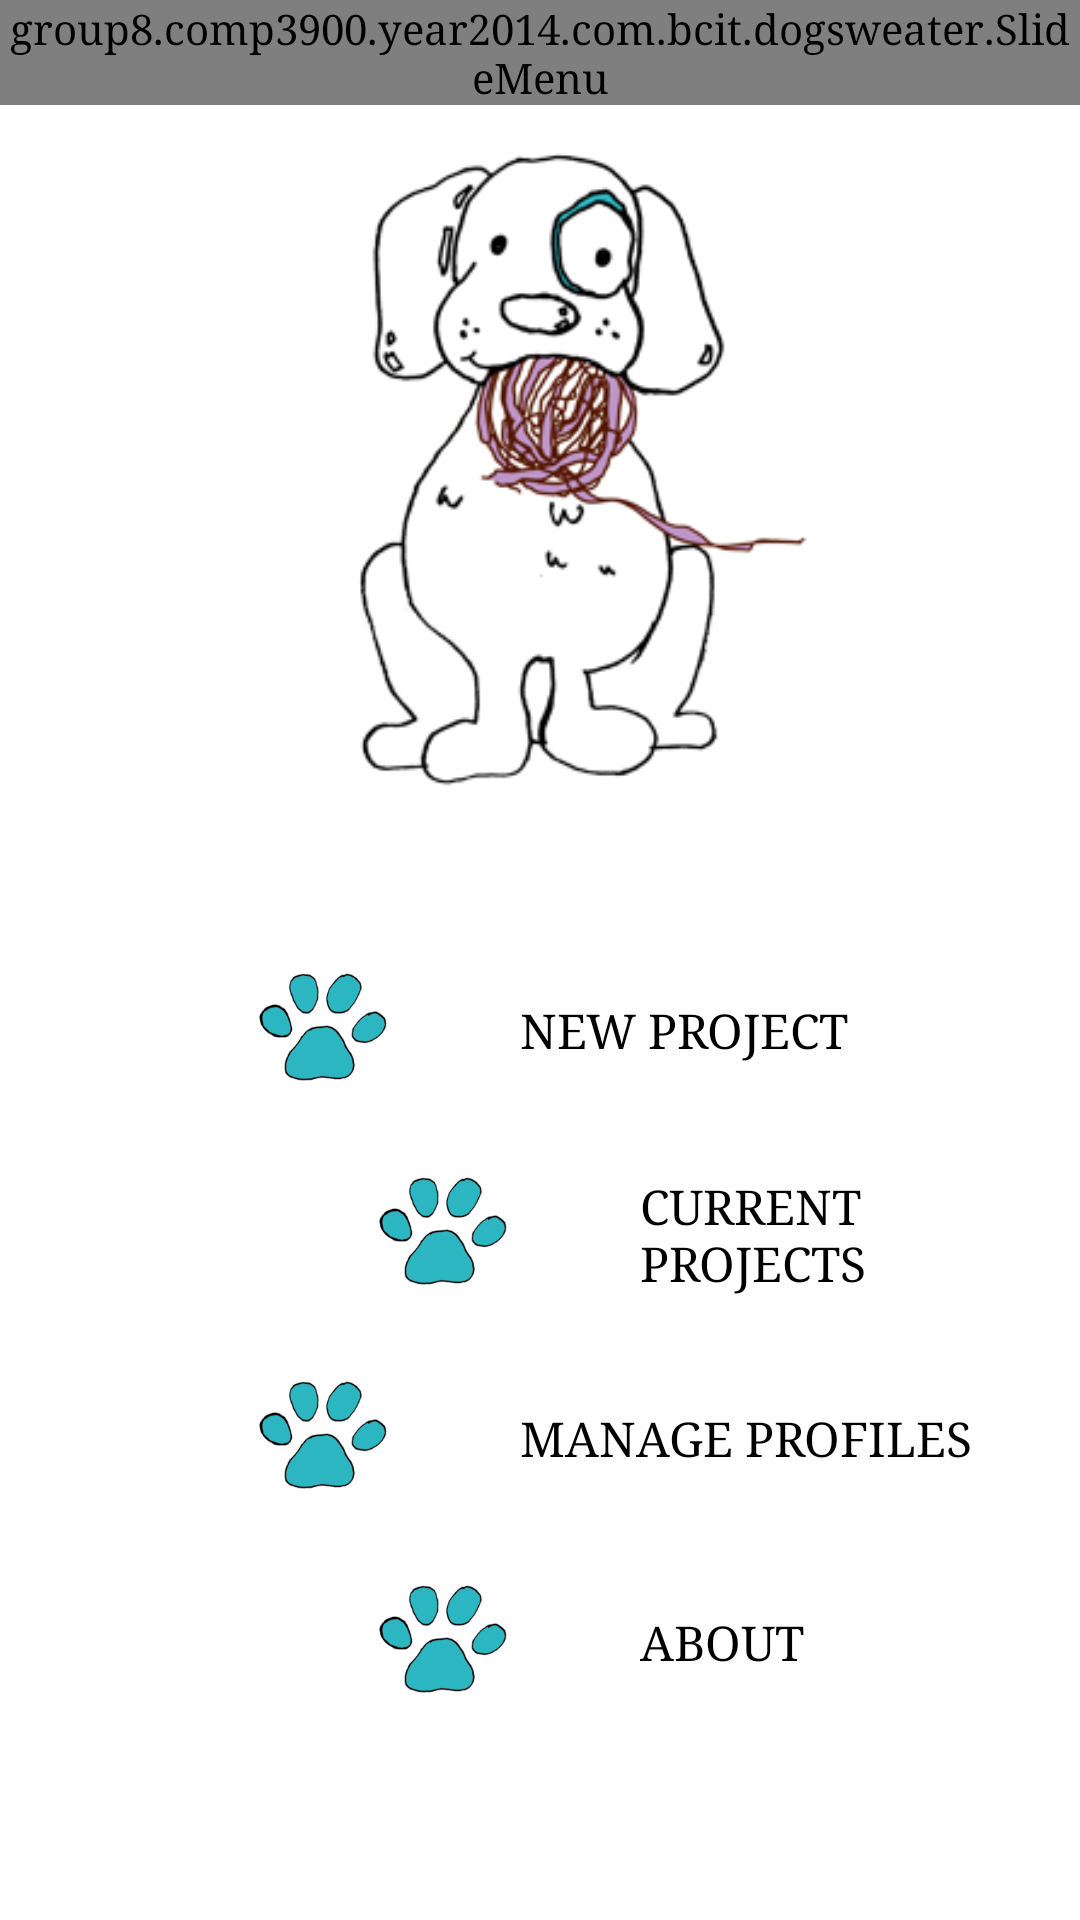

Screen size 1080px x 1920px. Icon name, then its center in pixels as (x=x, y=y):
dyi paw: (x=323, y=1027), (x=443, y=1231), (x=323, y=1435), (x=443, y=1639)
